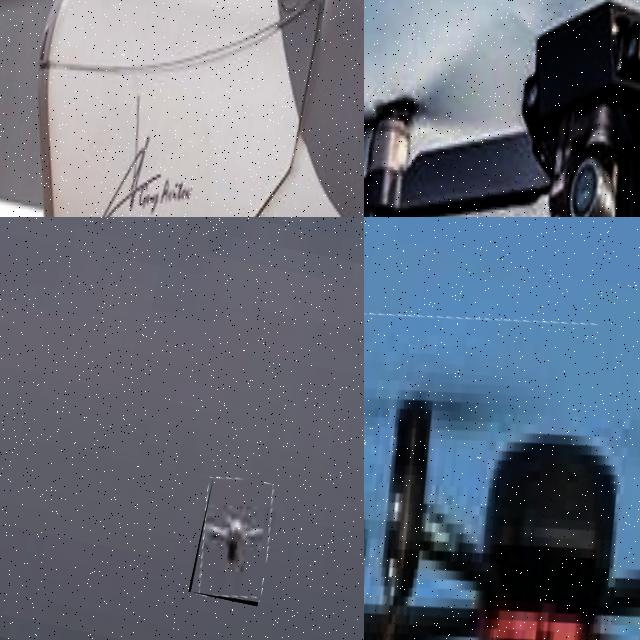0: (188, 472, 282, 606)
drone: (364, 264, 640, 640), (0, 0, 364, 217), (364, 0, 640, 217)
